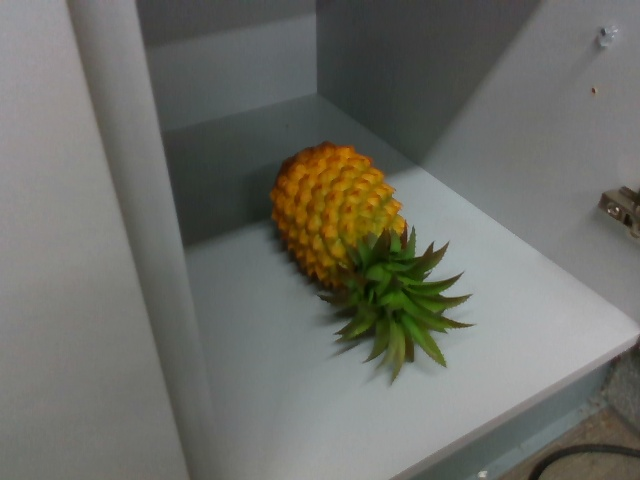pineapple: (263, 141, 480, 376)
